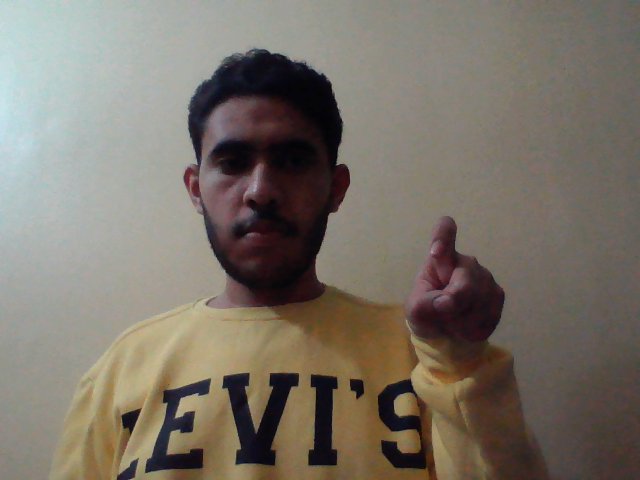X: (403, 206, 509, 360)
